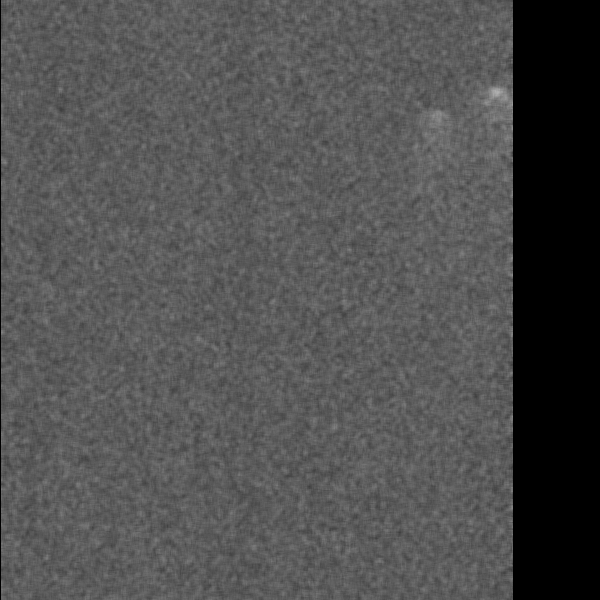spark: (412, 104, 453, 161), (481, 81, 511, 109)
